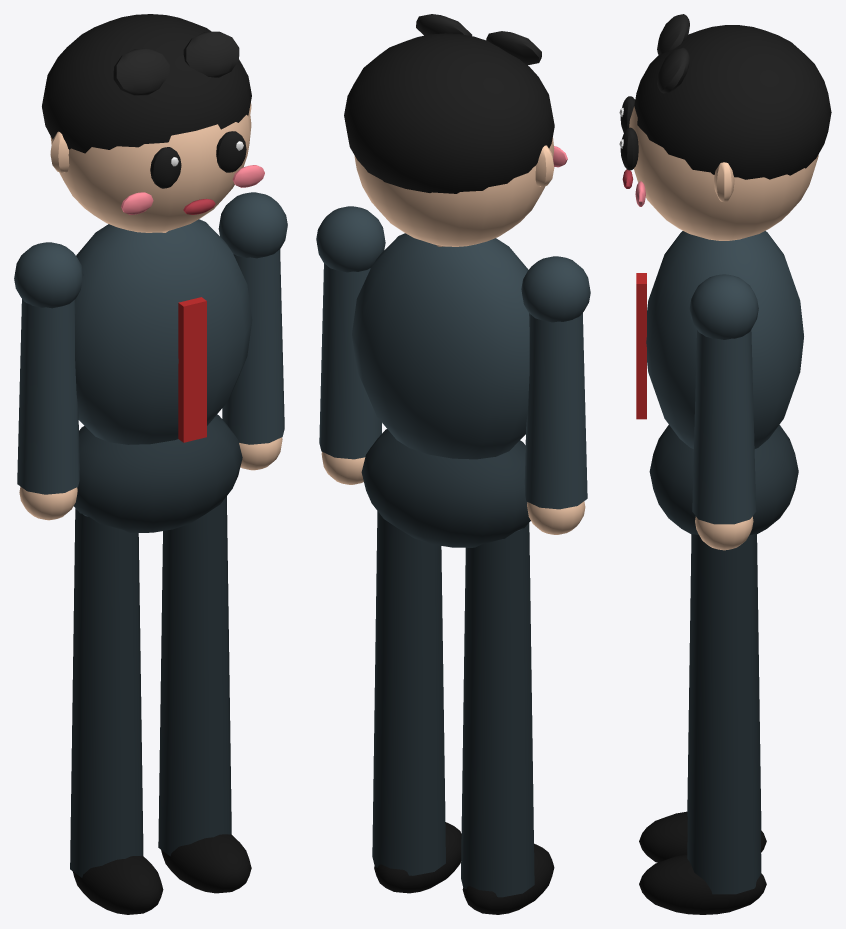
File: law_prosecutor.glb
3 views of the same model, side by side, from view 1: azimuth 30°, elevation 25°; view 2: azimuth 150°, elevation 25°; view 3: azimuth 270°, elevation 25° (orthographic).
Parts seen in each view (by area): view 1: Body.002, Leg_R.001, Leg_L.001, Arm_R.001, Arm_L.001; view 2: Body.002, Leg_R.001, Leg_L.001, Arm_R.001, Arm_L.001; view 3: Body.002, Leg_L.001, Arm_L.001, Leg_R.001.
Part boxes in pixels (bbox=[...]): Body.002: bbox=[42, 14, 264, 532]; Leg_R.001: bbox=[70, 508, 163, 914]; Leg_L.001: bbox=[158, 496, 251, 893]; Arm_R.001: bbox=[14, 242, 83, 520]; Arm_L.001: bbox=[218, 192, 287, 470]; Body.002: bbox=[344, 14, 567, 547]; Leg_R.001: bbox=[461, 523, 554, 914]; Leg_L.001: bbox=[372, 511, 461, 893]; Arm_R.001: bbox=[521, 256, 590, 534]; Arm_L.001: bbox=[316, 206, 385, 484]; Body.002: bbox=[619, 14, 831, 534]; Leg_L.001: bbox=[639, 534, 766, 914]; Arm_L.001: bbox=[689, 274, 758, 550]; Leg_R.001: bbox=[639, 534, 766, 862].
Size of the model in its own units: 0.57 by 1.77 by 0.3981.
